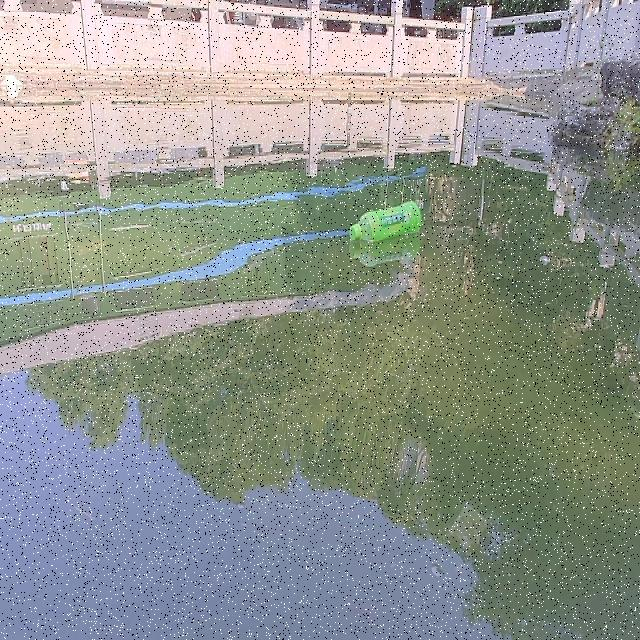Bottle: (346, 200, 422, 241)
